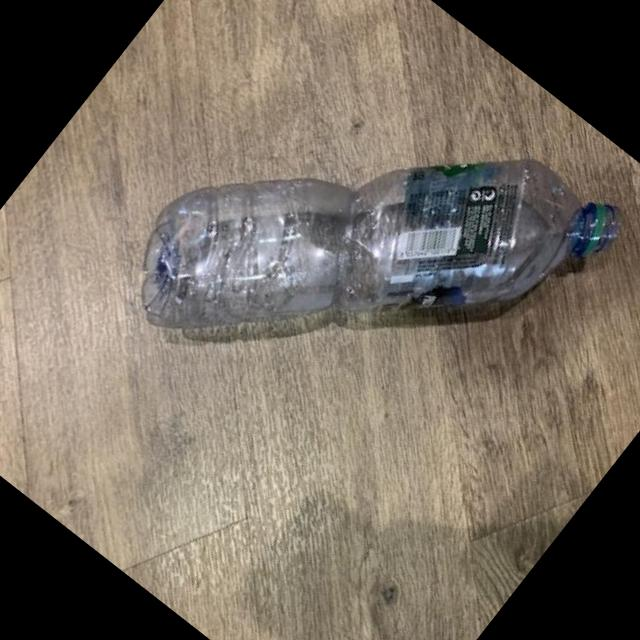BotolPlastik: (99, 0, 631, 520)
